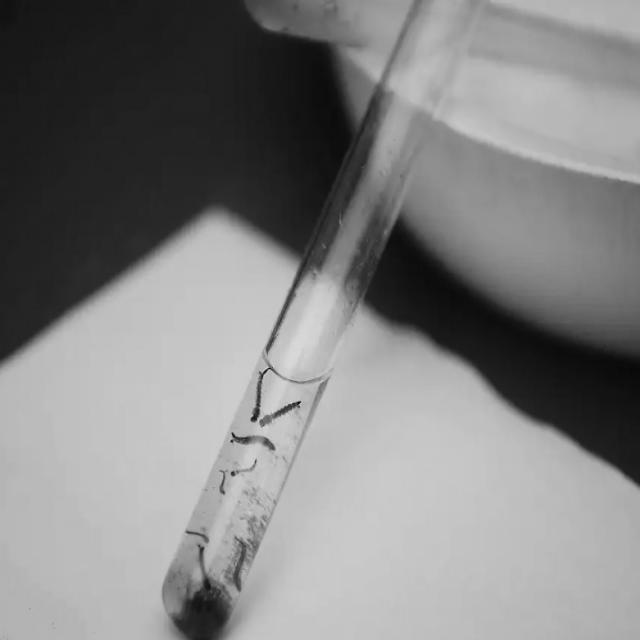larvas: (261, 402, 302, 426), (250, 369, 268, 417), (229, 435, 274, 452), (235, 538, 245, 589), (198, 546, 210, 587), (233, 458, 260, 476), (188, 527, 209, 541), (220, 471, 229, 496)
